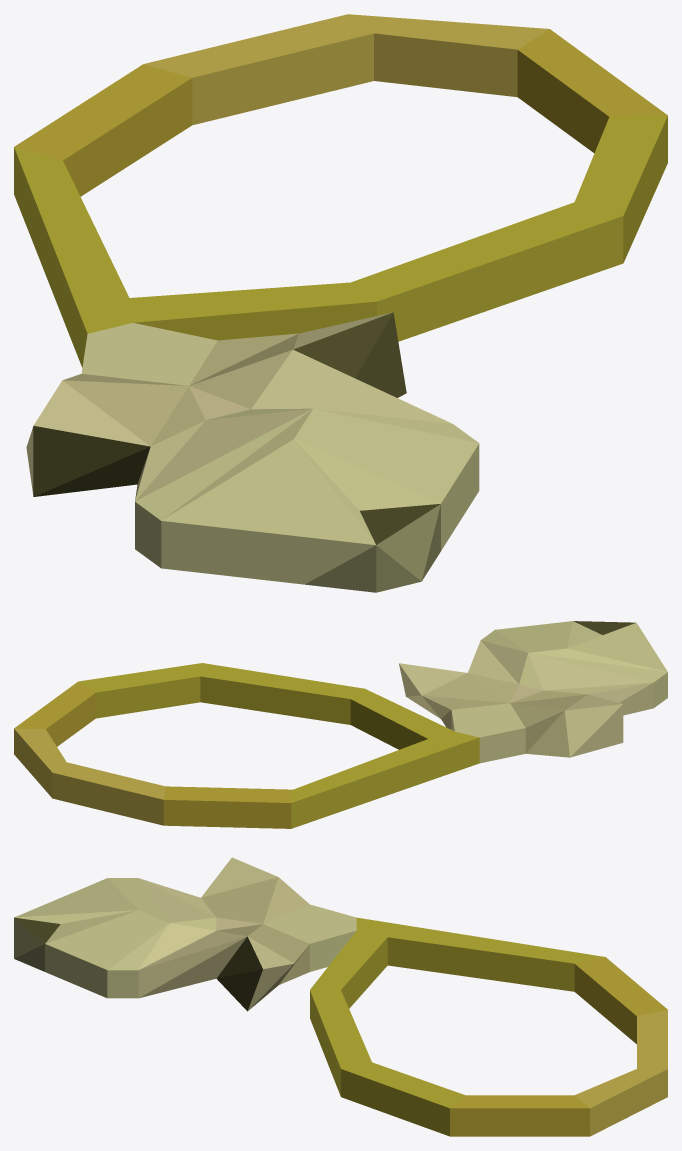
Rendered from camulet.gltf.
3 renders of one model, top to bottom at view 1: azimuth 30°, elevation 25°; view 2: azimuth 150°, elevation 25°; view 3: azimuth 270°, elevation 25°, orthographic. The views are drawn at different scales.
Size of the model in its own units: 36 by 3 by 42.
1 material, 1 textured.
